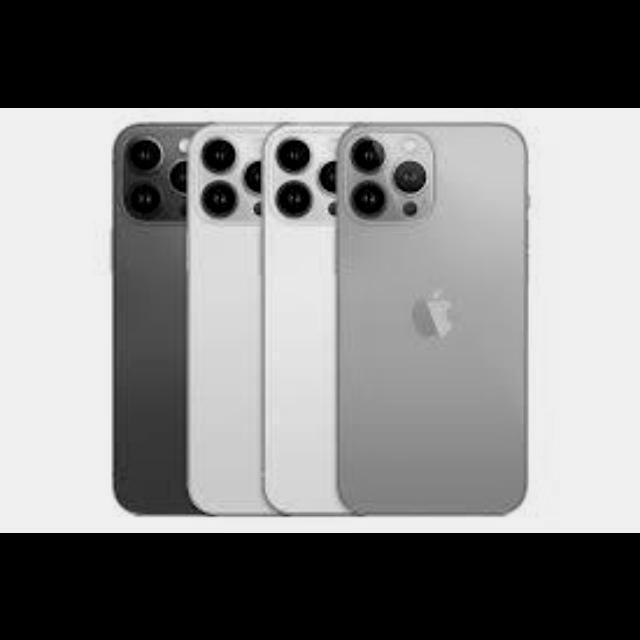fake: (292, 114, 536, 512)
